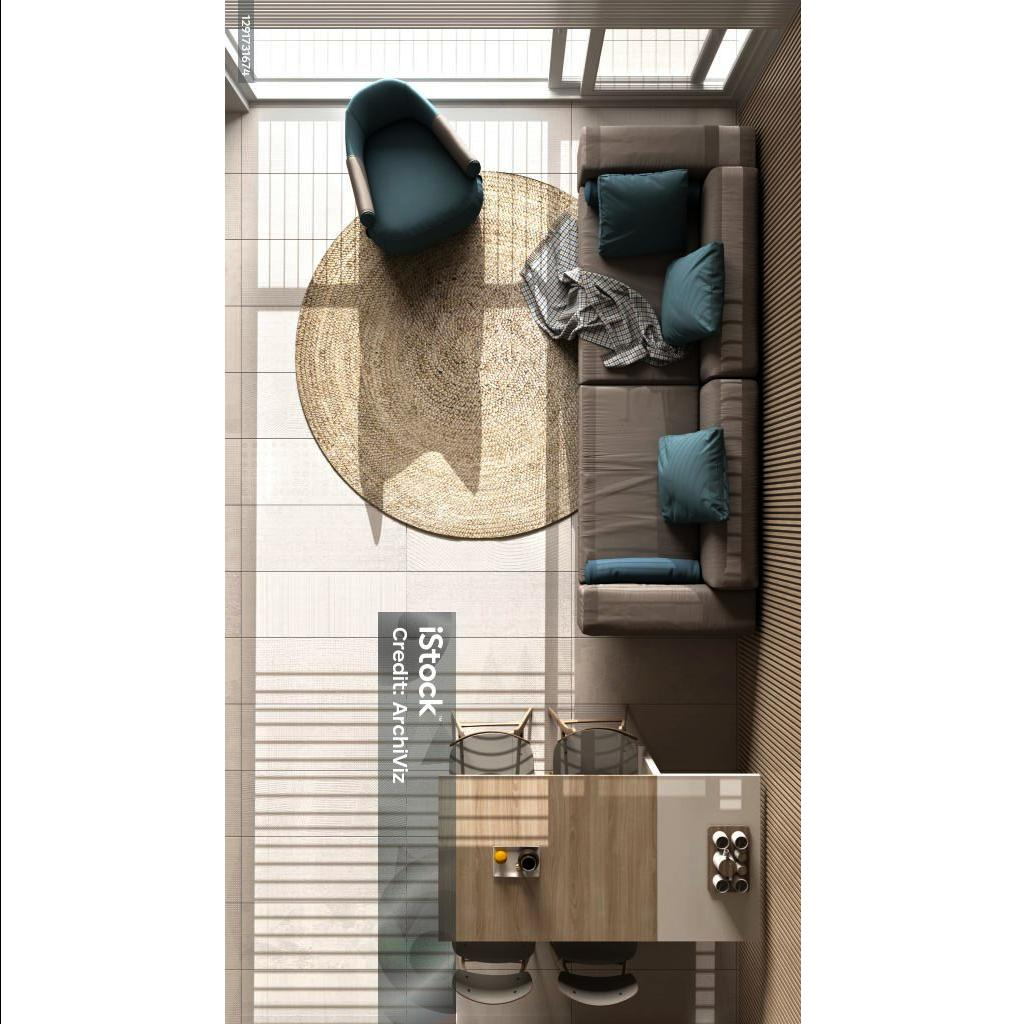chair: (344, 79, 482, 255), (544, 706, 650, 774), (444, 708, 538, 772), (548, 945, 636, 1005), (449, 944, 537, 1004)
dining table: (438, 774, 758, 944)
rug: (292, 171, 652, 539)
sofa: (576, 127, 756, 637)
window: (224, 0, 550, 16), (552, 1, 798, 15)
